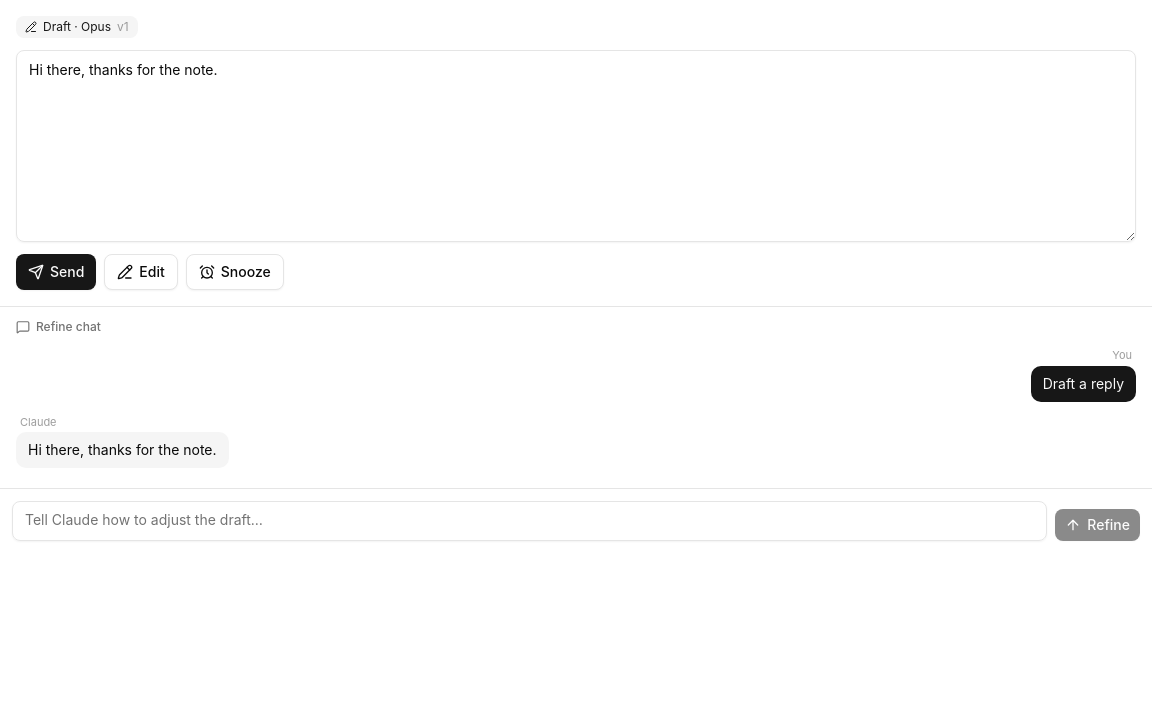
it: DraftPane (smoke) › renders the editable draft + model badge and Send posts the body to …/send
The image size is (1152, 720).
Check: the text box showing "Hi there, thanks for the note." is shown, box x1=16 y1=50 x2=1136 y2=242
Check: the text "Draft · Opus" is shown, box x1=43 y1=19 x2=111 y2=35
Click the button "Send" at (56, 272), box x1=16 y1=254 x2=96 y2=290
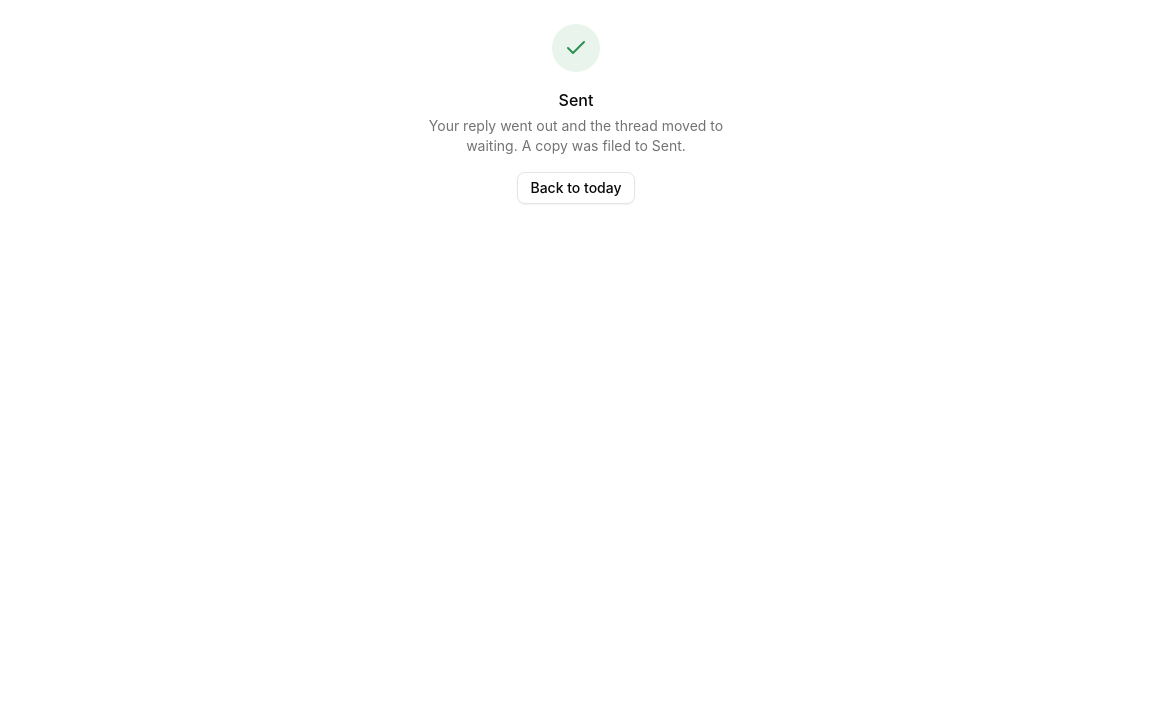
Check: the text "Sent" is shown, box x1=559 y1=90 x2=593 y2=110
